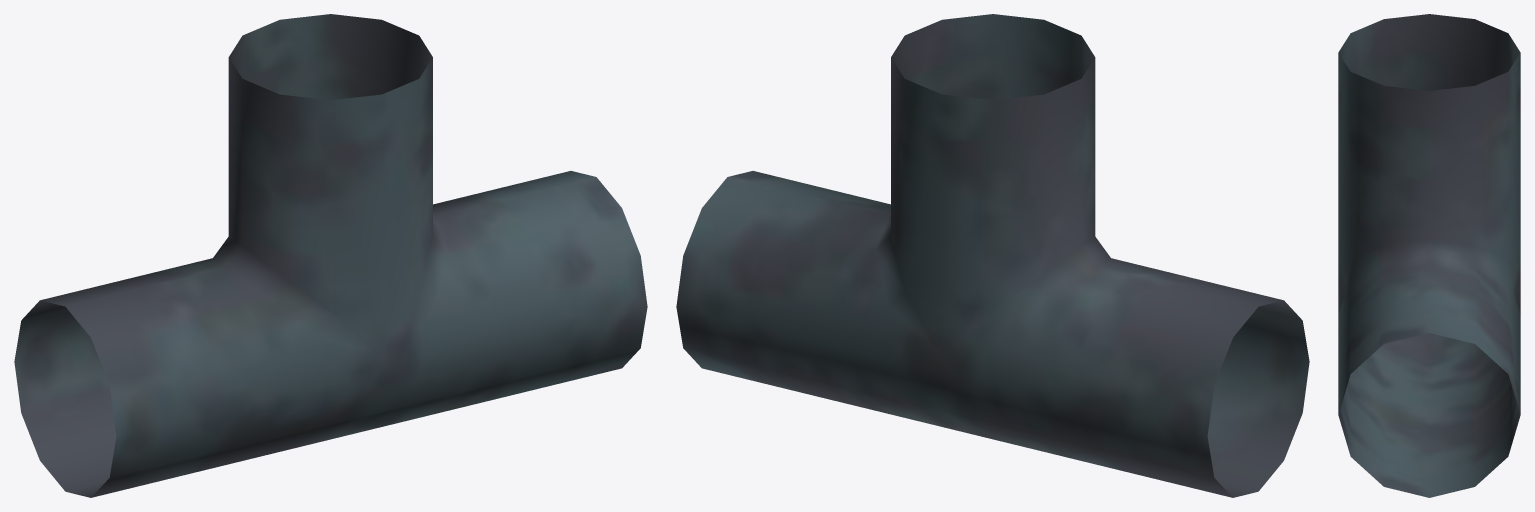
The model's file is CanoPequenoT.fbx.
3 views of the same model, side by side, from view 1: azimuth 30°, elevation 25°; view 2: azimuth 150°, elevation 25°; view 3: azimuth 270°, elevation 25° (orthographic). The views are drawn at different scales.
Parts seen in each view (by area): view 1: CanoPequenoT; view 2: CanoPequenoT; view 3: CanoPequenoT.
Boxes of the visible parts, x1=… form: CanoPequenoT: x1=14, y1=14, x2=647, y2=497; CanoPequenoT: x1=676, y1=14, x2=1309, y2=497; CanoPequenoT: x1=1338, y1=14, x2=1520, y2=497.
Bounding box in the file's own units: 60.07 × 39.96 × 20.
